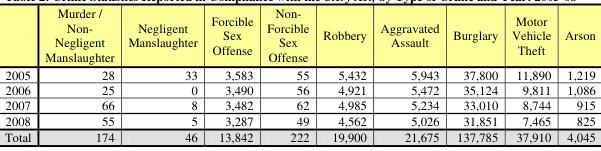table: (3, 4, 594, 144)
table column: (37, 4, 120, 144), (120, 4, 203, 144), (372, 4, 445, 144), (445, 4, 504, 144), (315, 4, 372, 144), (203, 4, 259, 144), (259, 4, 315, 144), (504, 4, 557, 144), (557, 4, 594, 144), (3, 4, 37, 144)
table column header: (3, 4, 594, 64)
table row: (3, 4, 594, 64), (3, 64, 594, 81), (3, 111, 594, 128), (3, 128, 594, 144), (3, 81, 594, 96), (3, 96, 594, 111)
